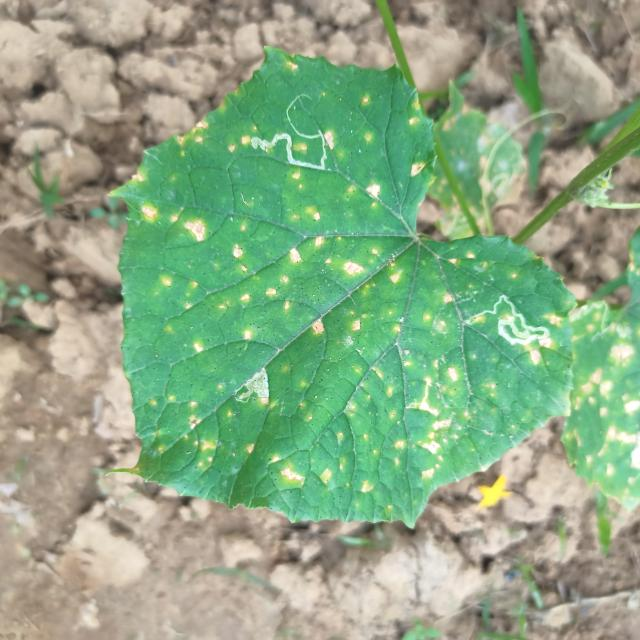disease_cucumber: (150, 103, 552, 503), (572, 309, 640, 495)
